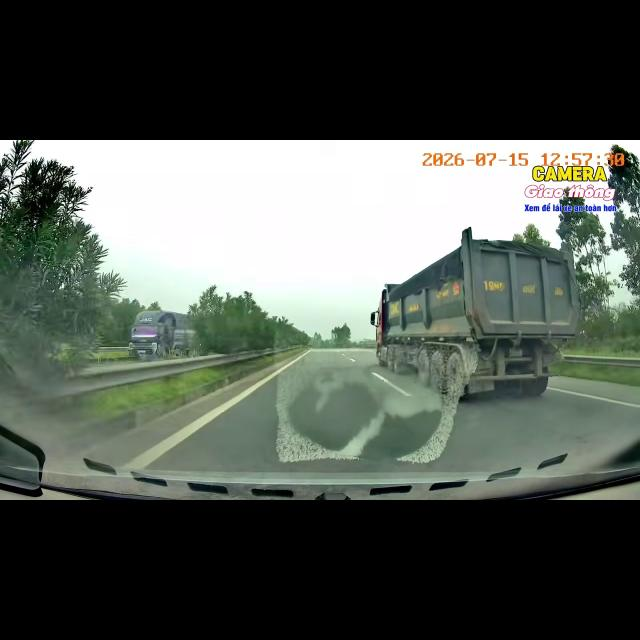truck: (371, 228, 579, 398), (129, 310, 198, 357)
